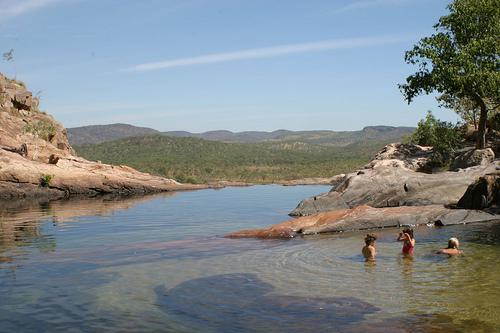human: (434, 234, 467, 258), (397, 227, 416, 258), (360, 232, 378, 263)
